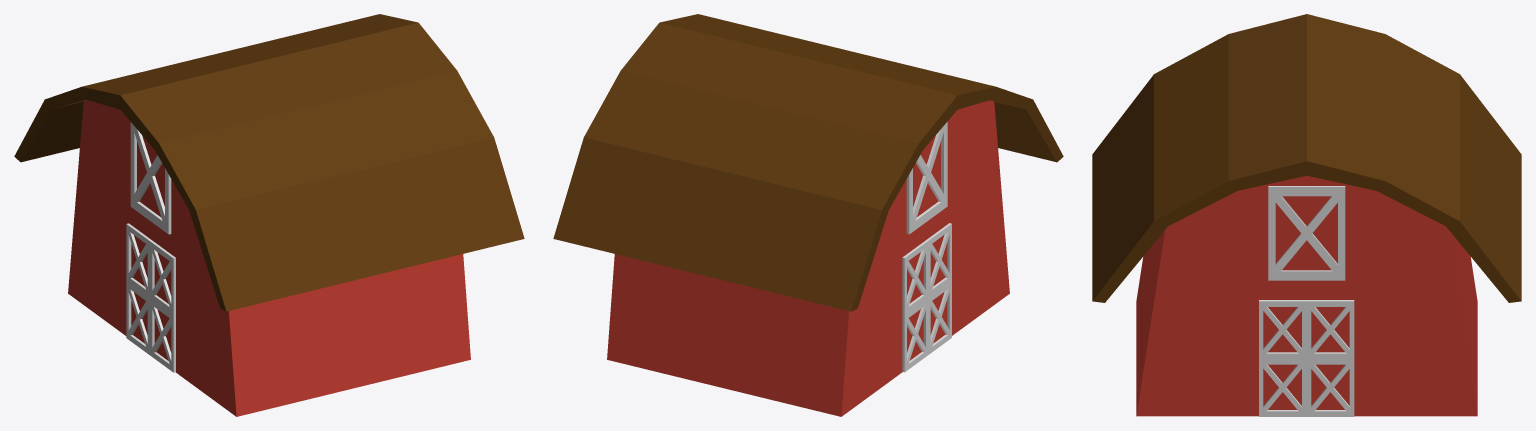
Rendered from barn.fbx.
3 views of the same model, side by side, from view 1: azimuth 30°, elevation 25°; view 2: azimuth 150°, elevation 25°; view 3: azimuth 270°, elevation 25° (orthographic).
Visible parts, largest first — view 1: Cube; view 2: Cube; view 3: Cube.
Part boxes in pixels (box(x1,y1,x2,y2)): Cube: box(14, 14, 524, 416); Cube: box(553, 14, 1063, 416); Cube: box(1092, 14, 1521, 416).
Size of the model in its own units: 676 by 580 by 833.
